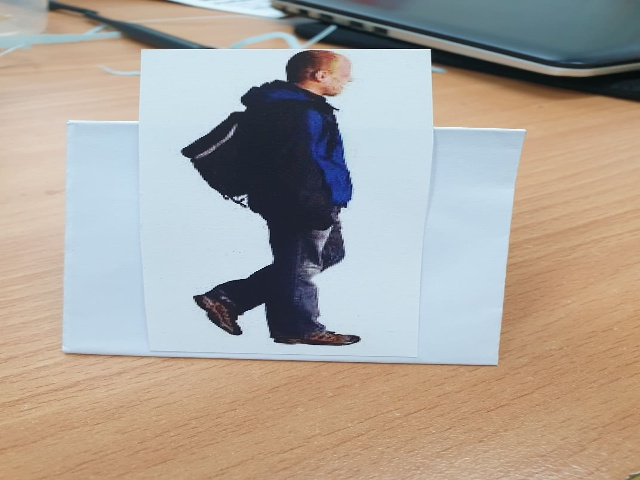Person: (137, 51, 411, 364)
